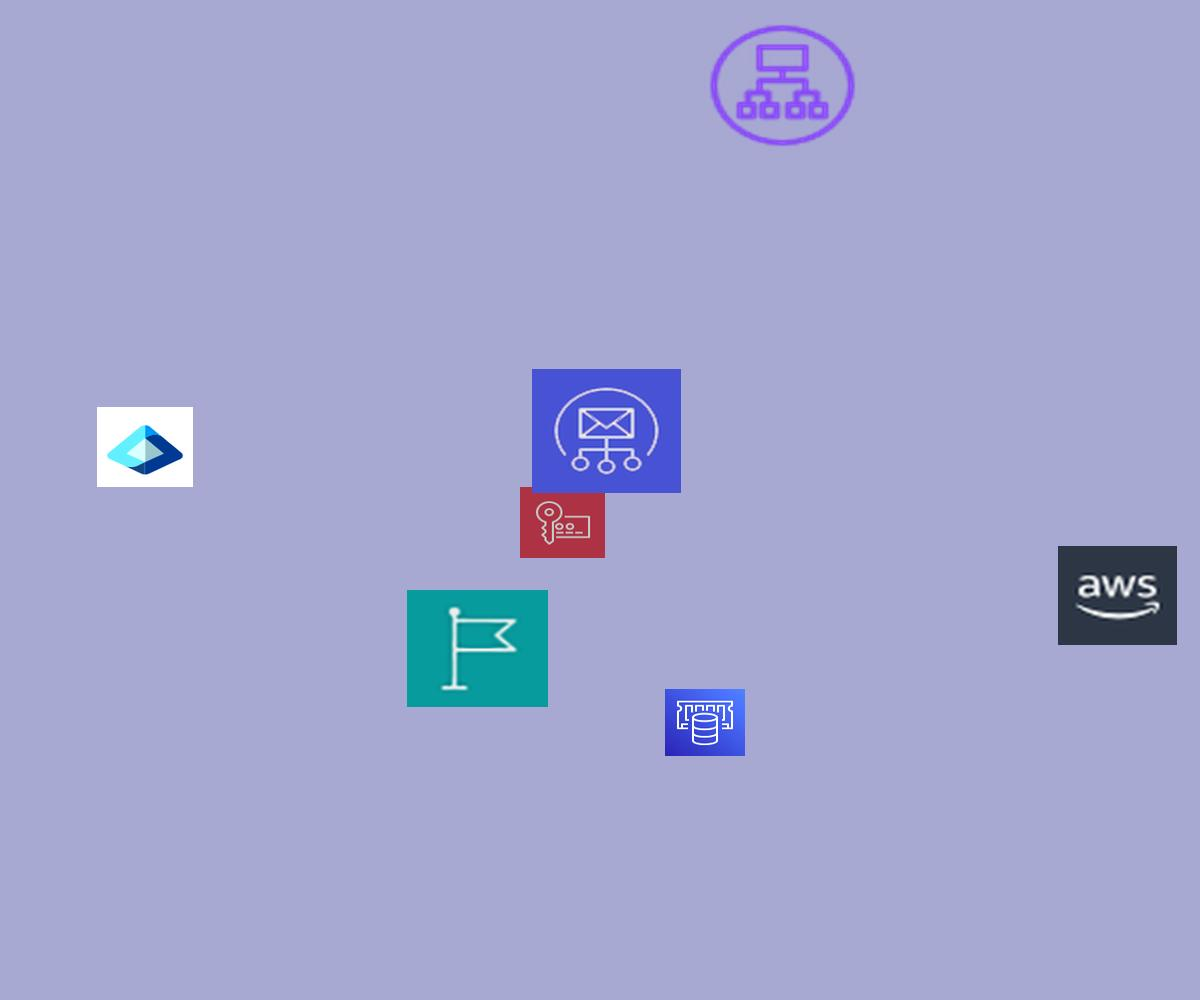AWS-Cloud-logo: (1058, 546, 1177, 645)
AWS-ElastiCache: (665, 689, 745, 756)
AWS-Key-Management-Service: (520, 487, 605, 558)
AWS-Region: (407, 590, 548, 707)
AWS-Res_Elastic-Load-Balancing_Application-Load-Balancer: (704, 20, 861, 151)
AWS-Simple-Email-Service: (532, 369, 681, 493)
Azure_microsoft_entra: (97, 407, 193, 487)
